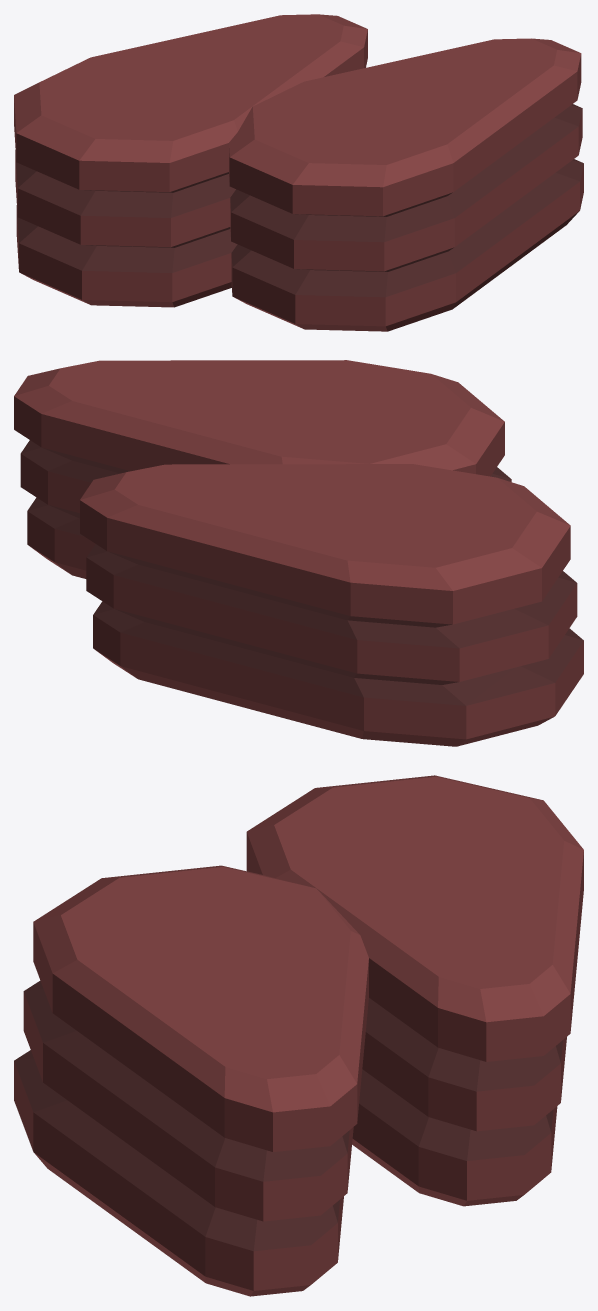
File: item_meat_big_c.obj
3 renders of one model, top to bottom at view 1: azimuth 30°, elevation 25°; view 2: azimuth 150°, elevation 25°; view 3: azimuth 270°, elevation 25°, orthographic. The views are drawn at different scales.
Size of the model in its own units: 0.8994 by 0.2624 by 0.6372.
